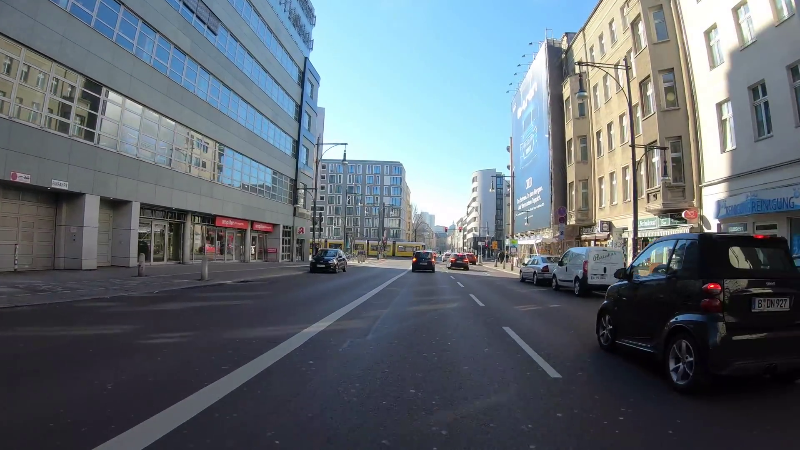Plate: (748, 296, 792, 313), (590, 274, 606, 281), (314, 264, 326, 267), (417, 262, 428, 265)
